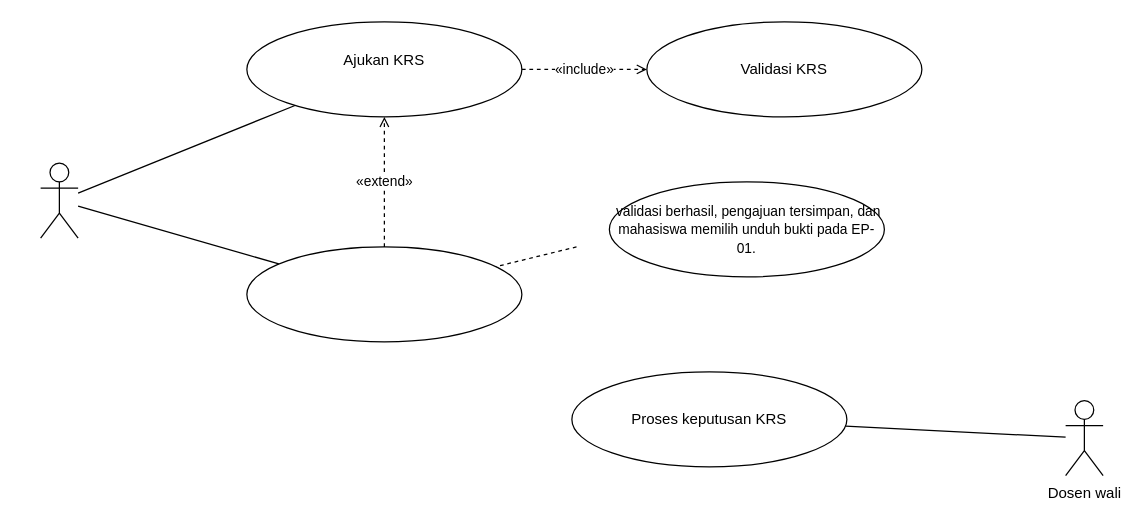
The diagram is 1143 pixels wide and 524 high, and some of its shapes have lost their labels. The centre of each missing label's shape, as x and y in pixels:
"Mahasiswa" belongs at pixel 58 200.
"Unduh bukti pengajuan KRS" belongs at pixel 384 294.
